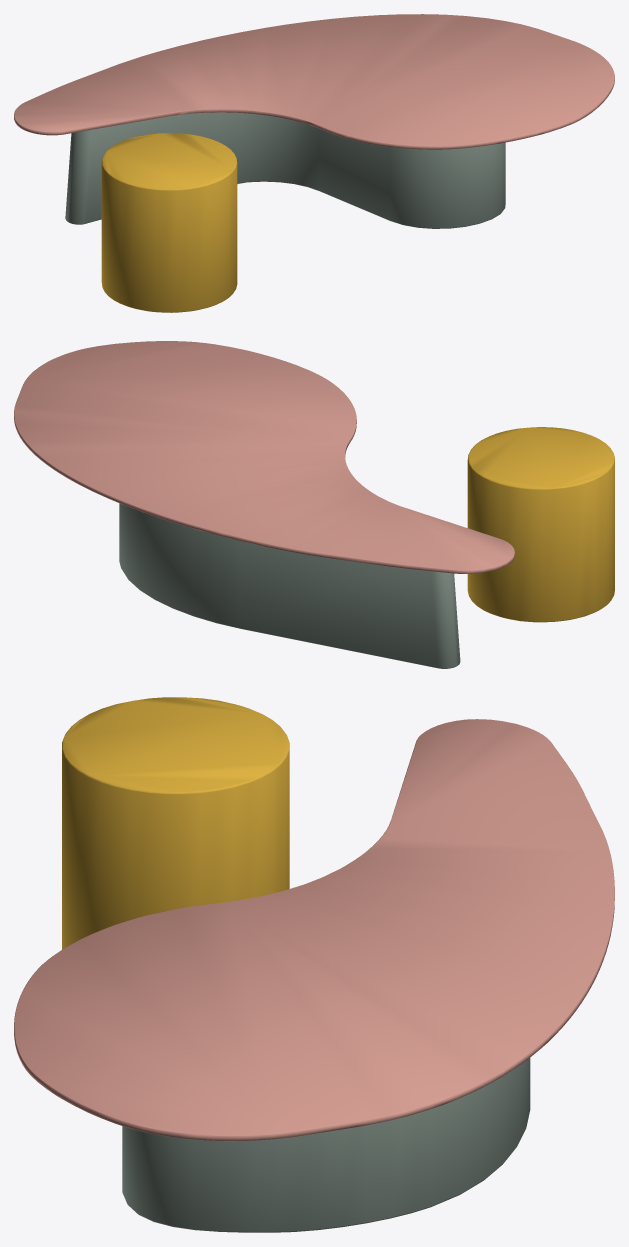
The model's file is HR-Desk.fbx.
3 renders of one model, top to bottom at view 1: azimuth 30°, elevation 25°; view 2: azimuth 150°, elevation 25°; view 3: azimuth 270°, elevation 25°, orthographic. The views are drawn at different scales.
Parts seen in each view (by area): view 1: Table 135_00, Table 135_01; view 2: Table 135_00, Table 135_01; view 3: Table 135_00, Table 135_01.
Part boxes in pixels (box(x1,y1,x2,y2)): Table 135_00: box(14, 14, 614, 228); Table 135_01: box(101, 133, 237, 312); Table 135_00: box(14, 341, 514, 668); Table 135_01: box(467, 427, 614, 622); Table 135_00: box(14, 719, 614, 1232); Table 135_01: box(62, 697, 289, 949).
Size of the model in its own units: 454 by 105 by 276.
